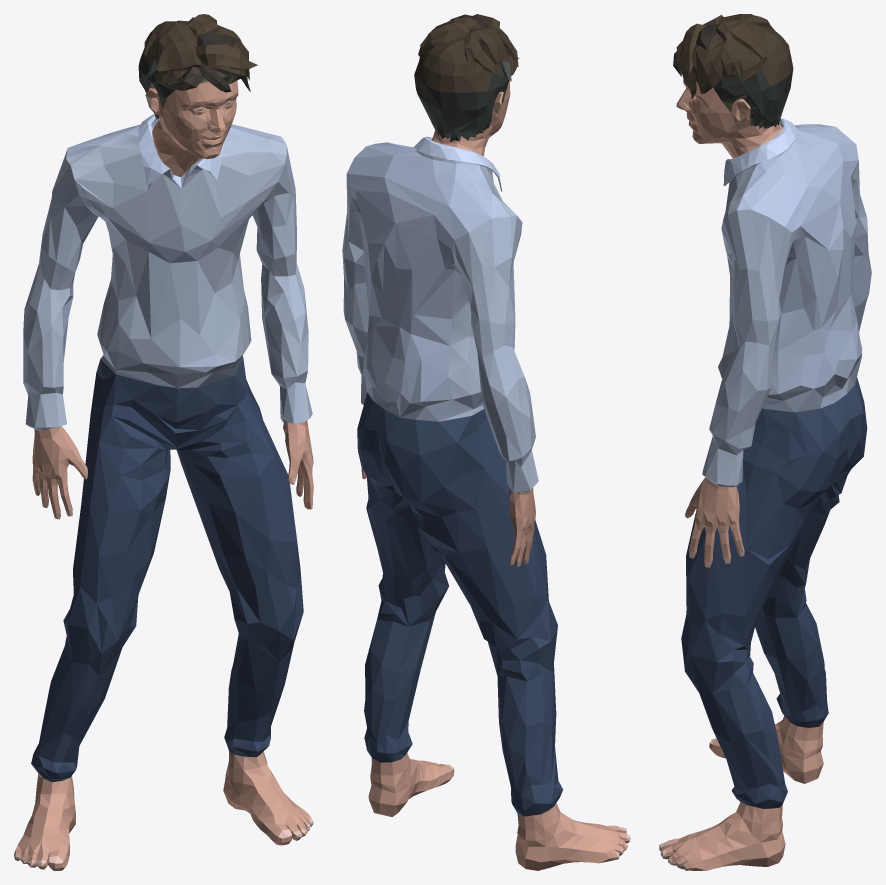
File: mat-relaxed-pose.obj
3 renders of one model, left to right at view 1: azimuth 30°, elevation 25°; view 2: azimuth 150°, elevation 25°; view 3: azimuth 270°, elevation 25°, orthographic. The views are drawn at different scales.
Parts seen in each view (by area): view 1: body-home, head, hand-male-slim; view 2: body-home, head, hand-male-slim; view 3: body-home, head, hand-male-slim.
Boxes of the visible parts, <box> form: body-home: <box>14,114,313,870</box>; head: <box>138,14,257,176</box>; hand-male-slim: <box>32,420,313,519</box>; body-home: <box>342,136,630,870</box>; head: <box>414,14,519,156</box>; hand-male-slim: <box>361,468,535,566</box>; body-home: <box>659,118,871,870</box>; head: <box>673,14,793,157</box>; hand-male-slim: <box>685,477,744,567</box>.
Bounding box in the file's own units: 0.6266 × 1.73 × 0.4102.
